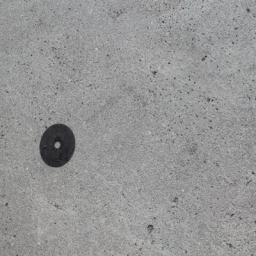FOD: (37, 122, 78, 170)
